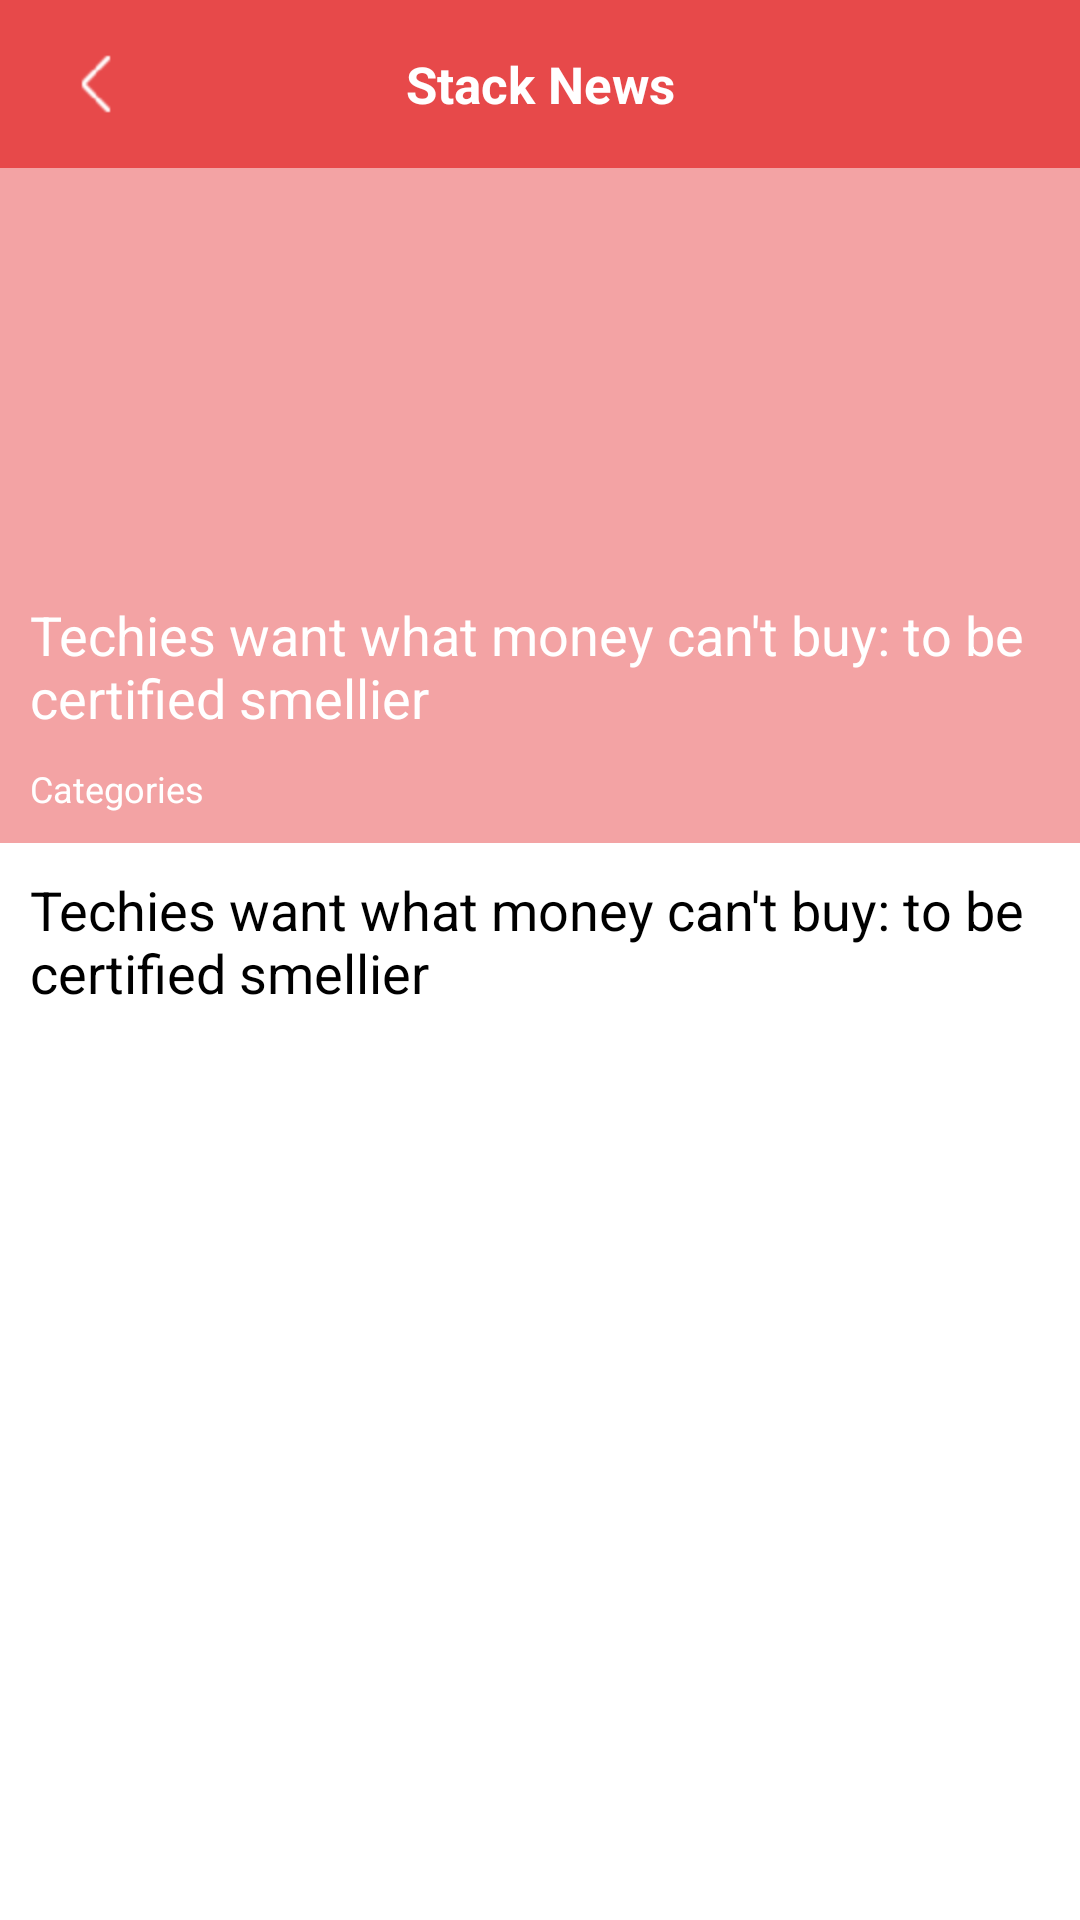

Icons on this 1080×1920 Android screen, each with the point to tap as (x=x, y=y):
back: (x=96, y=84)
